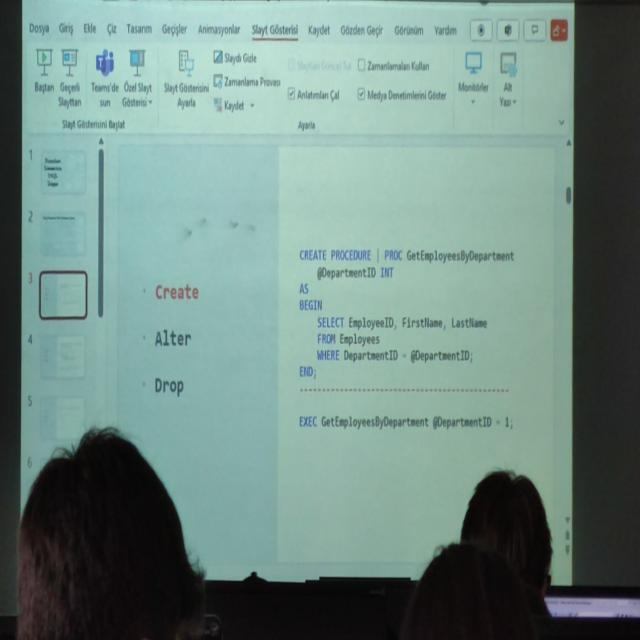text: (296, 409, 514, 436), (298, 245, 521, 268), (316, 348, 474, 366), (315, 314, 490, 330), (316, 261, 397, 285), (148, 277, 203, 310), (315, 332, 386, 350), (152, 324, 194, 352), (148, 371, 188, 399), (295, 298, 327, 316), (297, 357, 318, 382), (296, 280, 312, 294)
